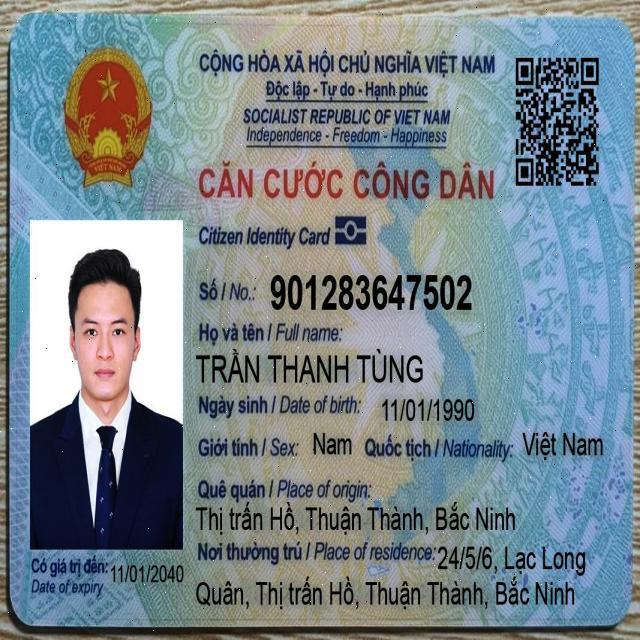current_place: (193, 575, 578, 613), (435, 539, 589, 578)
dob: (378, 392, 479, 428)
expire_date: (108, 560, 186, 587)
gender: (311, 428, 355, 461)
id: (267, 268, 476, 316)
name: (193, 344, 426, 389)
nationality: (520, 428, 606, 464)
origin_place: (192, 498, 520, 539)
qr: (511, 51, 602, 194)
